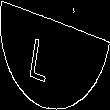L_N: (42, 27, 68, 83)
